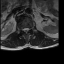CCS_normal: (25, 25, 27, 35)
LFS_stenosis: (29, 26, 31, 32)
LLS_normal: (27, 25, 29, 33)
RFS_normal: (20, 26, 23, 32)
RLS_normal: (23, 26, 25, 33)
